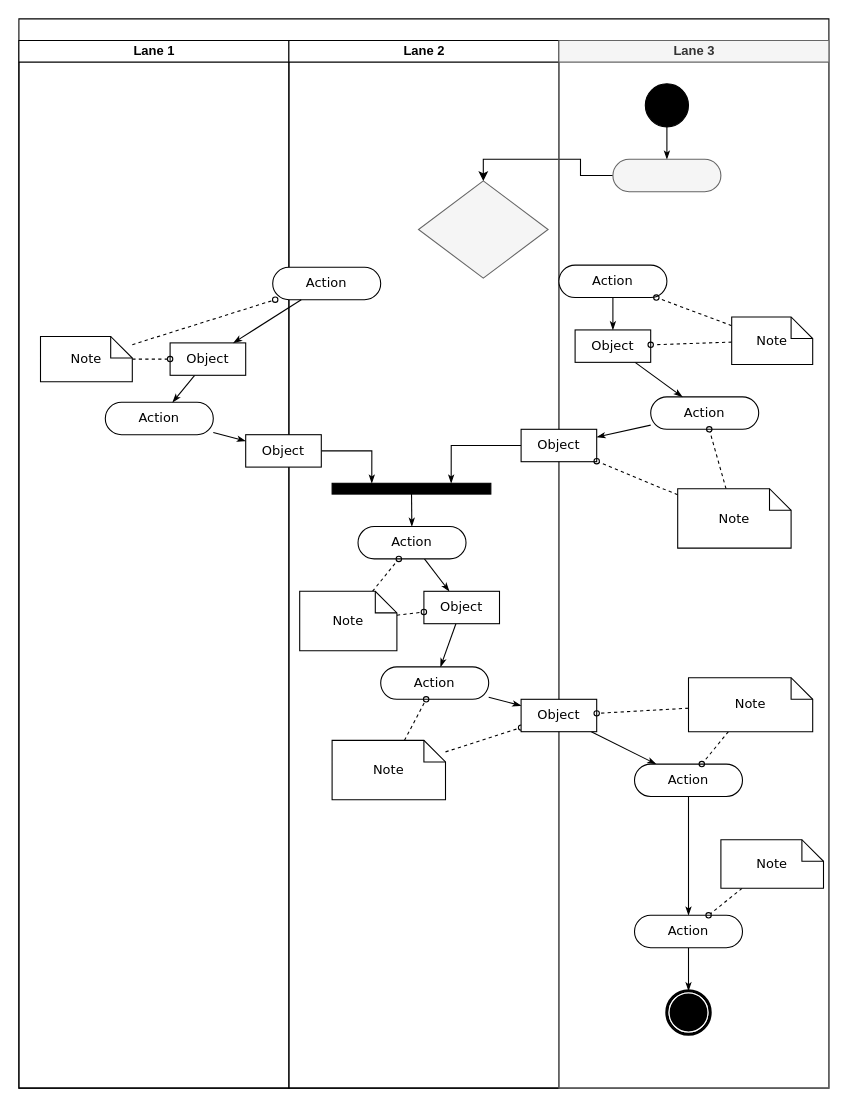
This 848x1107 diagram has some shape labels left out. The shapes that lost their labels are listed below. From the top down, each one's centre as x and y in pixels, then its label:
At (666,175): "Open the application".
At (482,229): "If you have an account".
